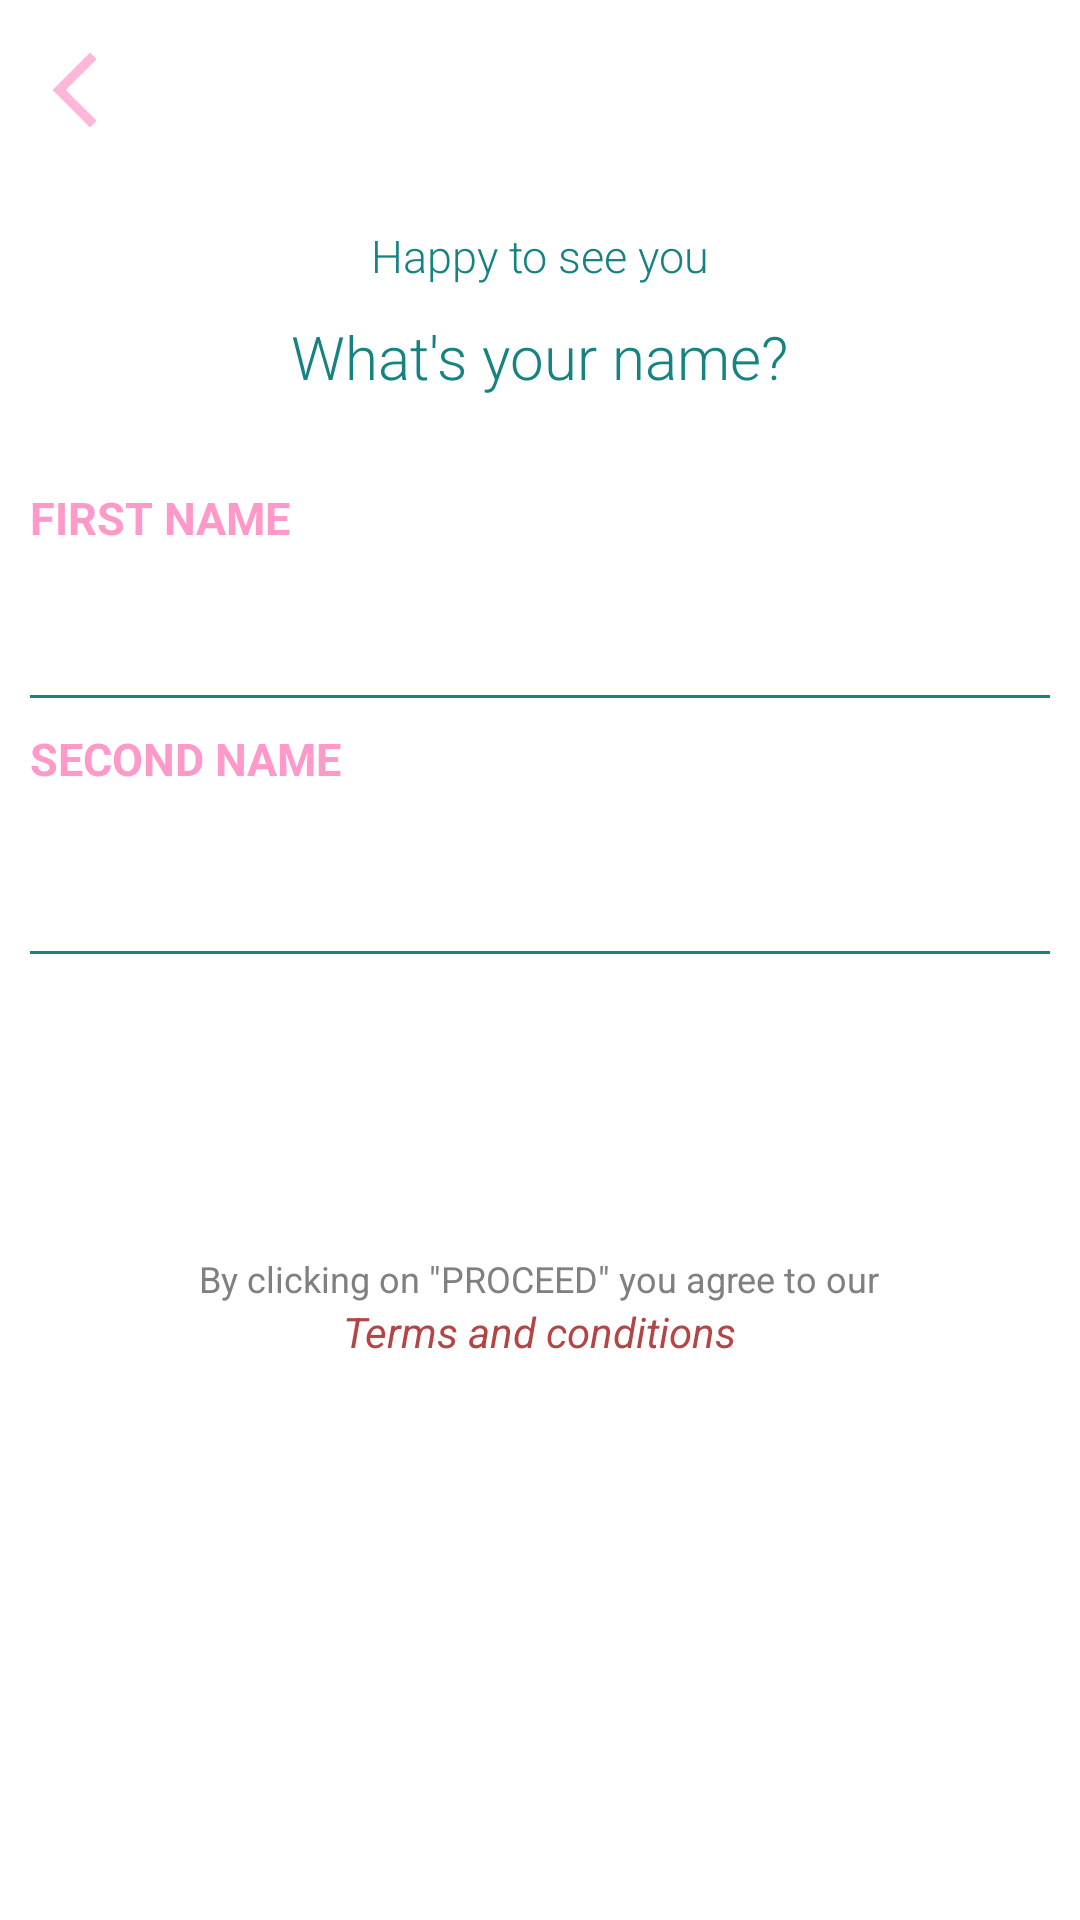

Screen size 1080 x 1920. Icon name, then its box in pixels as (x1, y1, x2, y2):
back: (53, 53, 96, 127)
